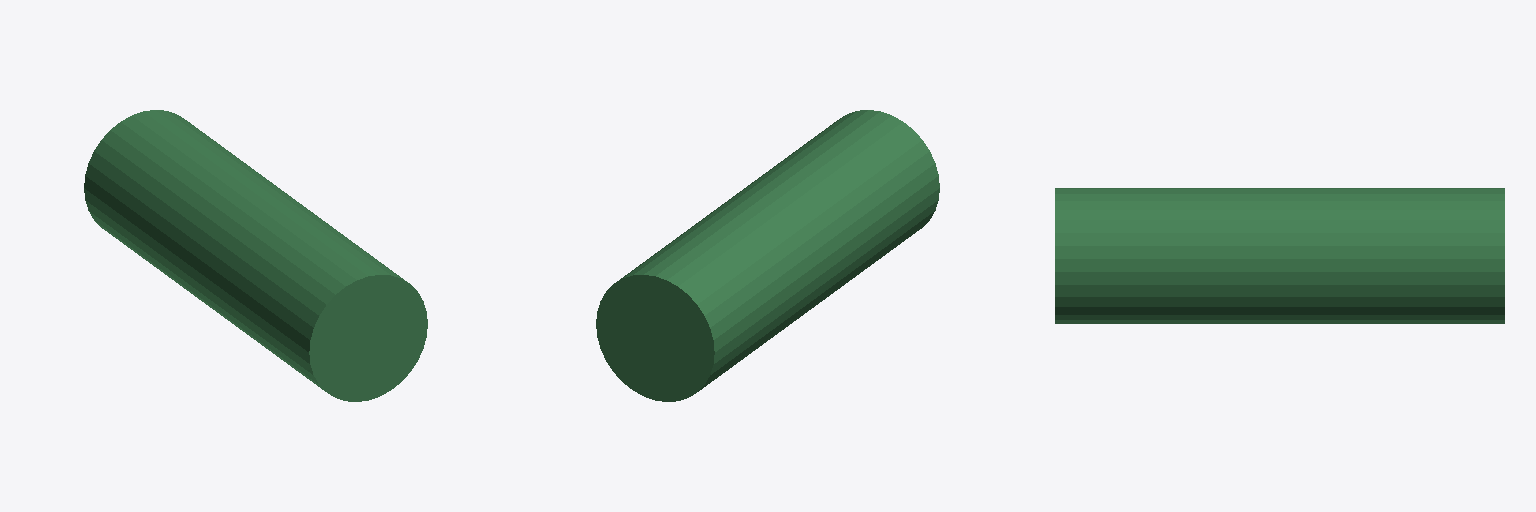
Rendered from pillar.obj.
The picture shows the model from 3 angles: view 1: azimuth 30°, elevation 25°; view 2: azimuth 150°, elevation 25°; view 3: azimuth 270°, elevation 25°; orthographic projection.
Bounding box in the file's own units: 0.609 × 0.609 × 2.